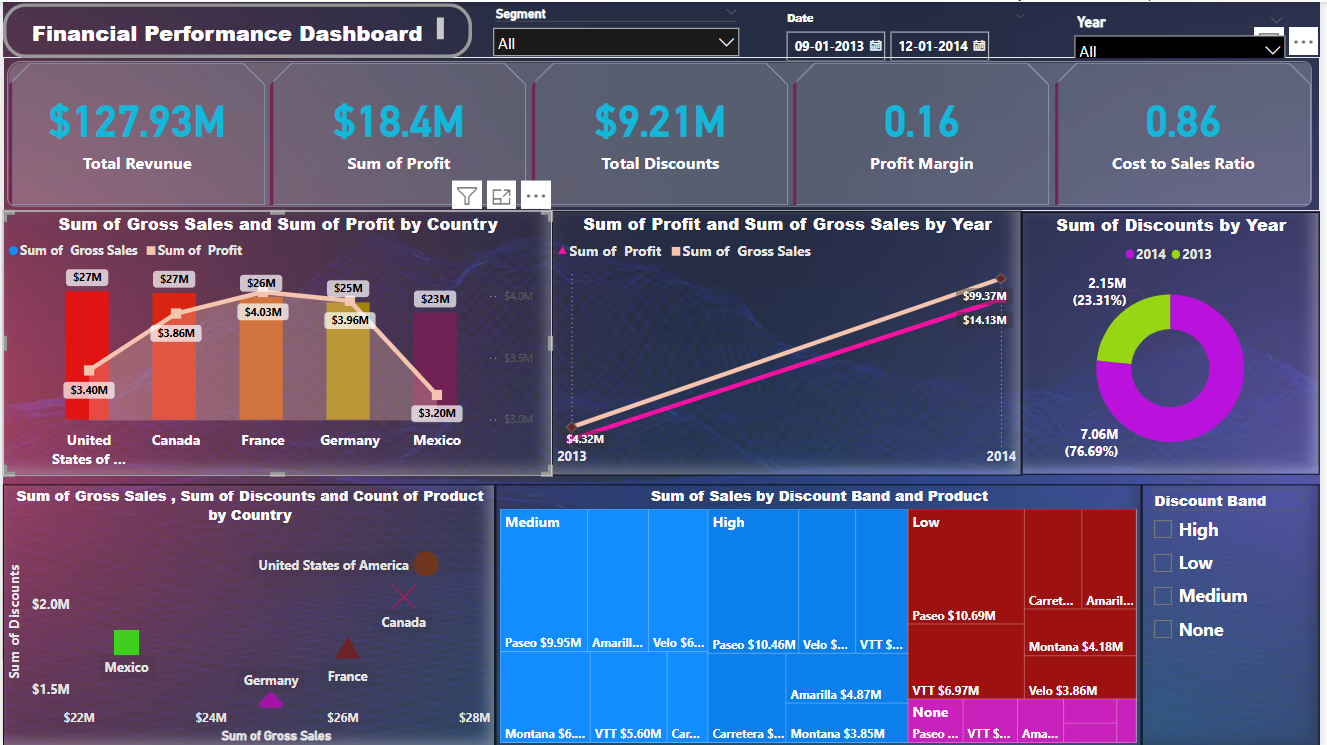

The page's visual inventory and layout, read from the dashboard file:
{"tool":"powerbi","page":{"name":"Page 1","canvas":[1500,850],"ordinal":0},"visuals":[{"type":"cardVisual","fields":{"Data":["financial_data.Total Revunue","financial_data.Sum of Profit","financial_data.Total Discounts","financial_data.Profit Margin","financial_data.Cost to Sales Ratio"]},"box":[0,62.7,1499.8,175.2],"z":0},{"type":"lineStackedColumnComboChart","fields":{"Y":["Sum(financial_data. Gross Sales )"],"Y2":["Sum(financial_data. Profit )"],"Category":["financial_data.Country"]},"box":[0,237.9,625.3,301.9],"z":1000},{"type":"lineChart","fields":{"Y2":["Sum(financial_data. Gross Sales )"],"Category":["financial_data.Year"],"Y":["Sum(financial_data. Profit )"]},"box":[625.3,237.9,535.5,301.9],"z":2000},{"type":"donutChart","fields":{"Category":["financial_data.Year"],"Y":["Sum(financial_data. Discounts )"]},"box":[1160.8,239.3,339,299.1],"z":3000},{"type":"scatterChart","fields":{"Size":["CountNonNull(financial_data. Product )"],"X":["Sum(financial_data. Gross Sales )"],"Y":["Sum(financial_data. Discounts )"],"Category":["financial_data.Country"]},"box":[0,549.8,561.2,300.5],"z":4000},{"type":"treemap","fields":{"Group":["financial_data. Discount Band "],"Details":["financial_data. Product "],"Values":["Sum(financial_data.  Sales )"]},"box":[561.2,549.8,736.3,300.5],"z":5000},{"type":"shape","box":[0,1.4,534.1,62.7],"z":6000},{"type":"textbox","box":[19.9,12.8,487.1,38.5],"z":7000},{"type":"slicer","fields":{"Values":["financial_data.Segment"]},"box":[548.3,0,300.5,62.7],"z":8000},{"type":"slicer","fields":{"Values":["financial_data.Date"]},"box":[880.2,4.3,296.2,62.7],"z":9000},{"type":"slicer","fields":{"Values":["financial_data.Year"]},"box":[1210.6,7.1,260.6,57],"z":10000},{"type":"slicer","fields":{"Values":["financial_data. Discount Band "]},"box":[1297.5,549.8,202.2,300.5],"z":11000}]}

Visuals, with their boxes in screenshot pixels (x1, y1, x2, y2), scaled from the page's 1500x850 canvas onto the 1327x745 screenshot:
cardVisual - financial_data.Total Revunue x financial_data.Sum of Profit: (0, 55, 1326, 209)
lineStackedColumnComboChart - Sum(financial_data. Gross Sales ) x Sum(financial_data. Profit ): (0, 209, 553, 473)
lineChart - Sum(financial_data. Gross Sales ) x financial_data.Year: (553, 209, 1027, 473)
donutChart - financial_data.Year x Sum(financial_data. Discounts ): (1027, 210, 1326, 472)
scatterChart - CountNonNull(financial_data. Product ) x Sum(financial_data. Gross Sales ): (0, 482, 496, 744)
treemap - financial_data. Discount Band  x financial_data. Product : (496, 482, 1148, 744)
shape: (0, 1, 473, 56)
textbox: (18, 11, 449, 45)
slicer - financial_data.Segment: (485, 0, 751, 55)
slicer - financial_data.Date: (779, 4, 1041, 59)
slicer - financial_data.Year: (1071, 6, 1302, 56)
slicer - financial_data. Discount Band : (1148, 482, 1326, 744)
